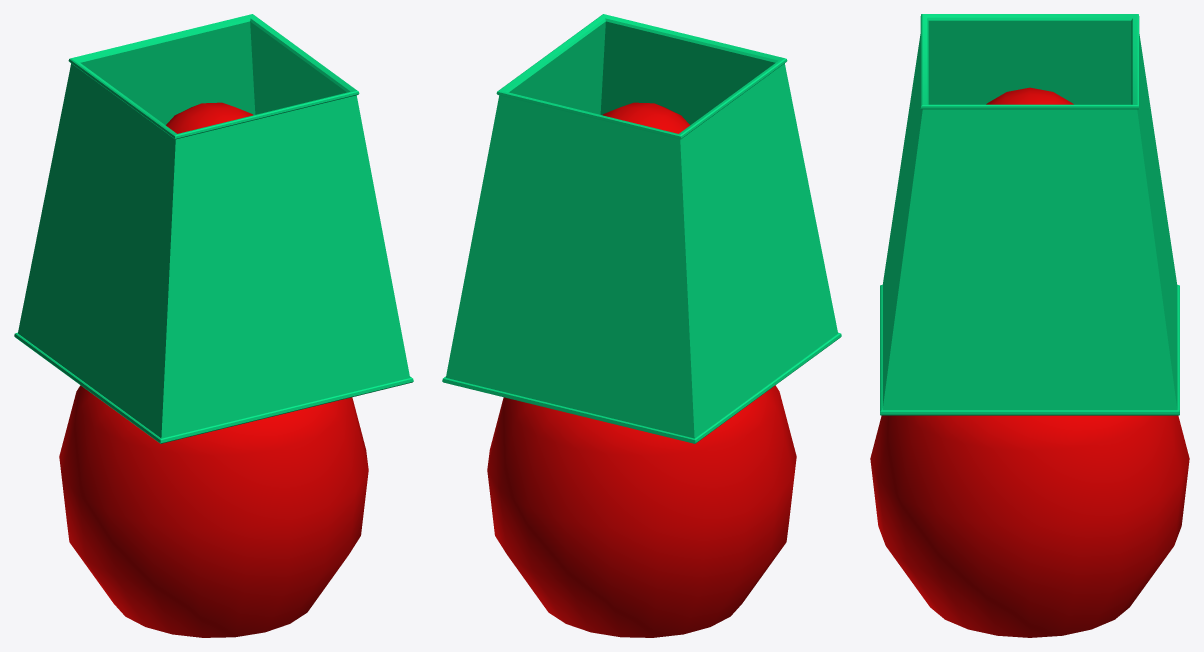
File: Lamp.fbx
The picture shows the model from 3 angles, left to right: view 1: azimuth 30°, elevation 25°; view 2: azimuth 150°, elevation 25°; view 3: azimuth 270°, elevation 25°; orthographic projection. The views are drawn at different scales.
Visible parts, largest first — view 1: Lamp; view 2: Lamp; view 3: Lamp.
Part boxes in pixels (left/top/right/bottom): Lamp: left=14, top=14, right=413, bottom=637; Lamp: left=442, top=14, right=841, bottom=637; Lamp: left=870, top=14, right=1189, bottom=637.
Size of the model in its own units: 22.03 by 40.65 by 22.03.
